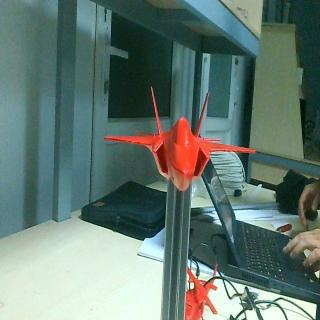Jet: (104, 86, 256, 192)
